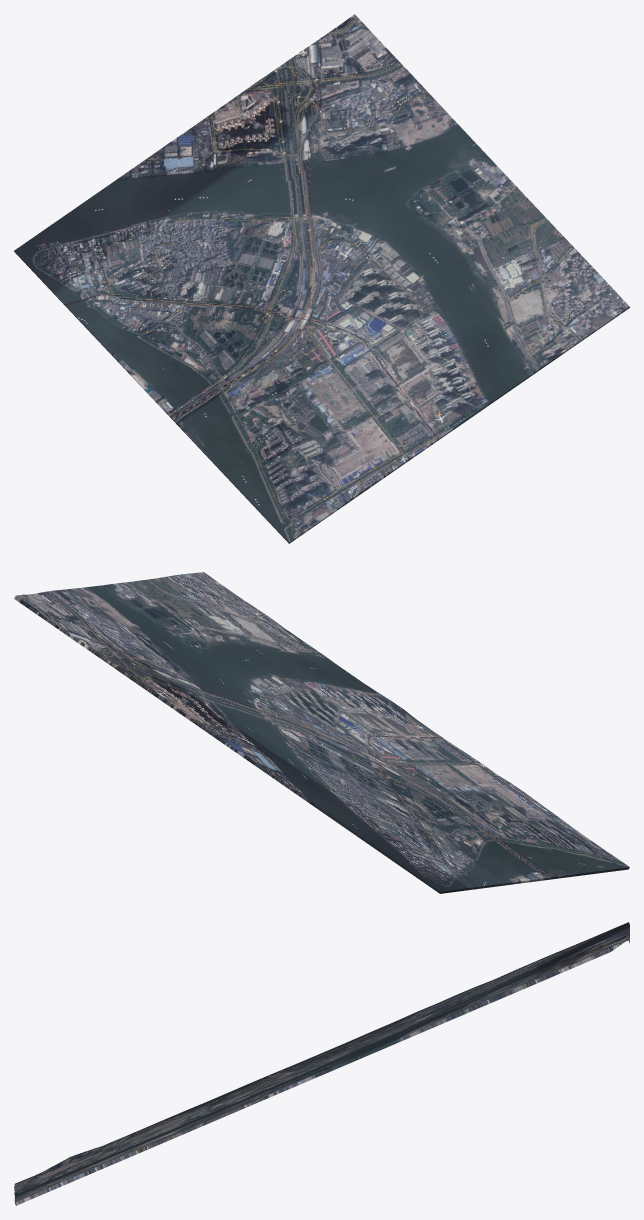
3 renders of one model, top to bottom at view 1: azimuth 30°, elevation 25°; view 2: azimuth 150°, elevation 25°; view 3: azimuth 270°, elevation 25°, orthographic. The views are drawn at different scales.
Parts seen in each view (by area): view 1: 2_2_0; view 2: 2_2_0; view 3: 2_2_0.
Part boxes in pixels (<box>): 2_2_0: <box>14,14,629,543</box>; 2_2_0: <box>14,572,629,893</box>; 2_2_0: <box>14,922,629,1205</box>.
Bounding box in the file's own units: 2449 × 1779 × 2245.
1 material, 1 textured.
